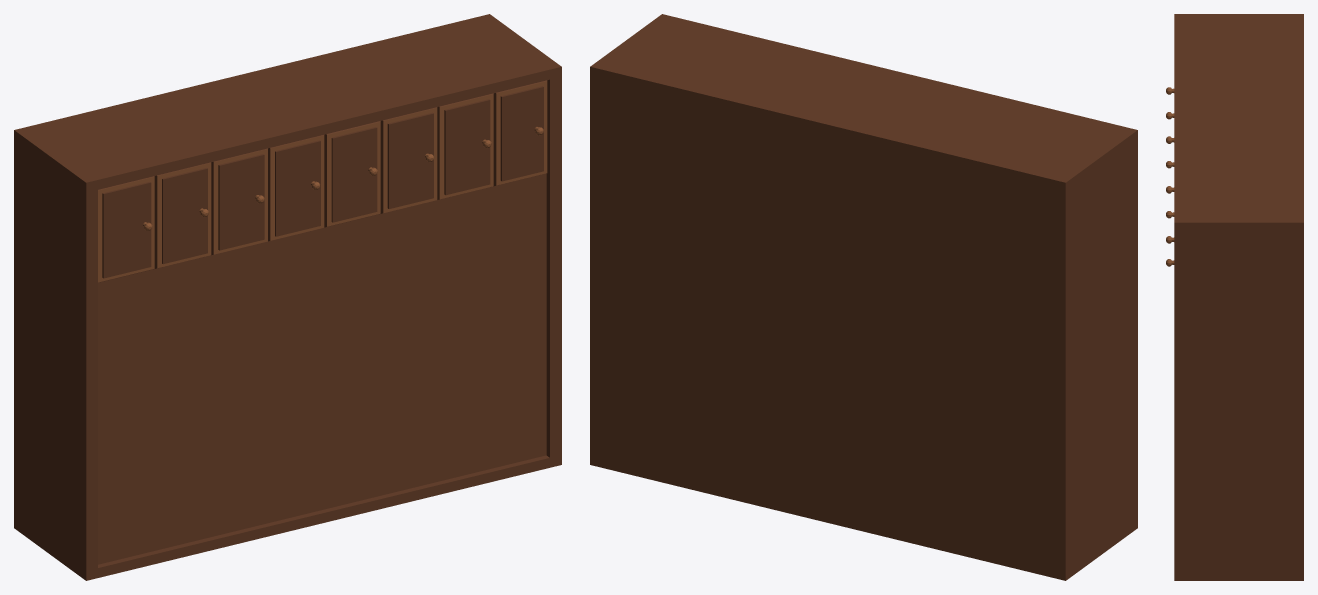
The model's file is DrawerShelf2.fbx.
The picture shows the model from 3 angles, left to right: view 1: azimuth 30°, elevation 25°; view 2: azimuth 150°, elevation 25°; view 3: azimuth 270°, elevation 25°; orthographic projection. The views are drawn at different scales.
Parts seen in each view (by area): view 1: DrawerShelf2; view 2: DrawerShelf2; view 3: DrawerShelf2.
Boxes of the visible parts, x1=… form: DrawerShelf2: x1=14, y1=14, x2=561, y2=580; DrawerShelf2: x1=590, y1=14, x2=1137, y2=580; DrawerShelf2: x1=1166, y1=14, x2=1303, y2=580.
Bounding box in the file's own units: 4000 × 3200 × 1116.
